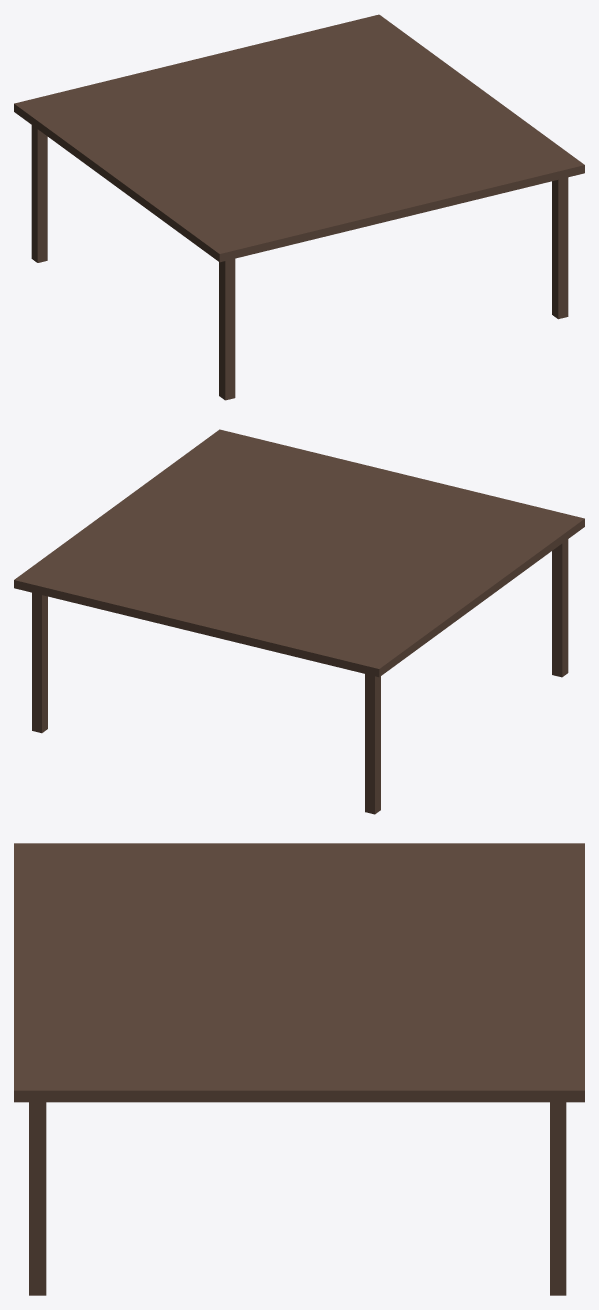
The model's file is Mesh_Table_01.fbx.
The picture shows the model from 3 angles, top to bottom: view 1: azimuth 30°, elevation 25°; view 2: azimuth 150°, elevation 25°; view 3: azimuth 270°, elevation 25°; orthographic projection. The views are drawn at different scales.
Visible parts, largest first — view 1: Table_01; view 2: Table_01; view 3: Table_01.
Part boxes in pixels (bbox=[...]): Table_01: bbox=[14, 14, 584, 400]; Table_01: bbox=[14, 429, 584, 814]; Table_01: bbox=[14, 843, 584, 1295].
Bounding box in the file's own units: 12.22 × 4.89 × 11.92.
